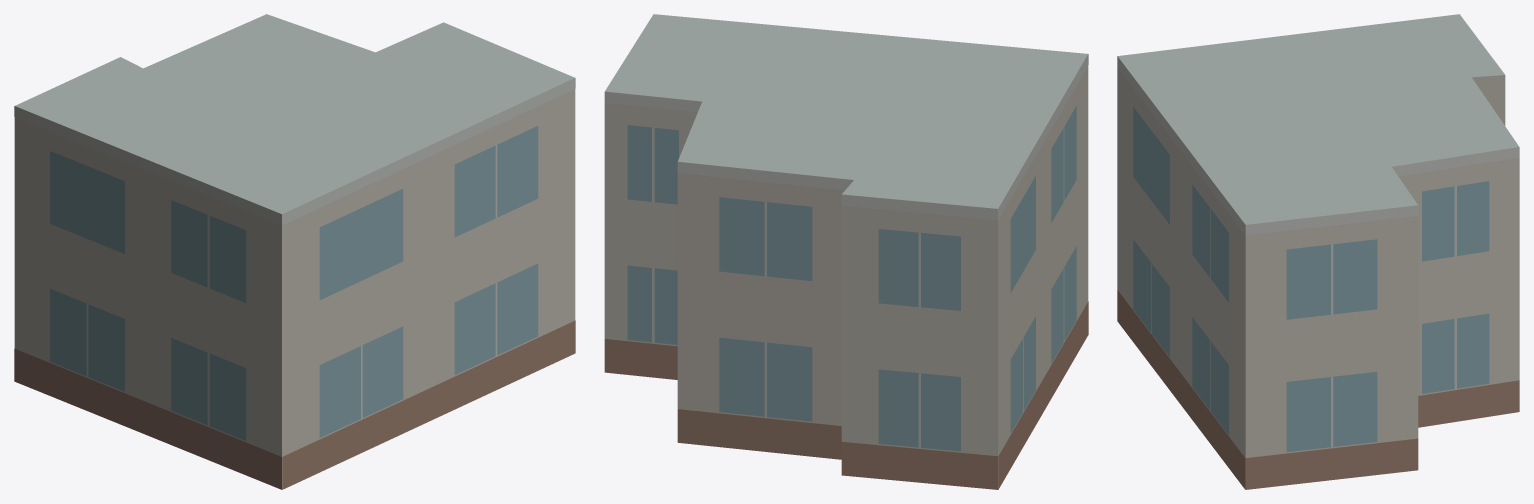
Rendered from survey-upis-32768071.glb.
3 views of the same model, side by side, from view 1: azimuth 30°, elevation 25°; view 2: azimuth 150°, elevation 25°; view 3: azimuth 270°, elevation 25° (orthographic). The views are drawn at different scales.
Visible parts, largest first — view 1: survey-upis-32768071.tmp; view 2: survey-upis-32768071.tmp; view 3: survey-upis-32768071.tmp.
Boxes of the visible parts, <box> form: survey-upis-32768071.tmp: <box>14,14,575,489</box>; survey-upis-32768071.tmp: <box>604,14,1088,489</box>; survey-upis-32768071.tmp: <box>1117,14,1519,489</box>.
Size of the model in its own units: 10.42 by 6.1 by 8.4.
